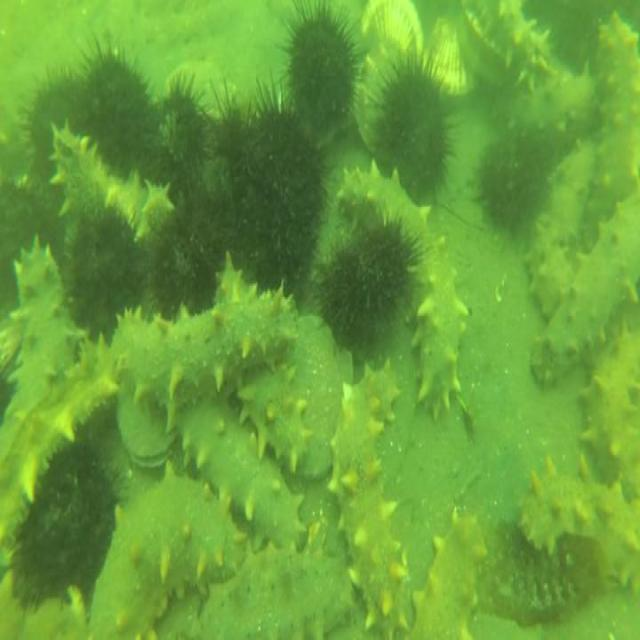echinus: (228, 87, 328, 284), (8, 439, 116, 613), (316, 220, 422, 349), (370, 55, 454, 199), (277, 0, 359, 137), (74, 41, 156, 177), (68, 197, 148, 332), (472, 132, 549, 238), (140, 79, 208, 191), (23, 68, 93, 175), (0, 172, 55, 305), (148, 217, 218, 316)
holothurian: (333, 163, 471, 420), (111, 256, 294, 431), (87, 458, 249, 640), (1, 334, 125, 548), (332, 354, 411, 640), (527, 193, 640, 392), (174, 526, 354, 640), (178, 398, 310, 550), (516, 447, 640, 602), (47, 115, 181, 242), (525, 124, 599, 322), (586, 5, 640, 248), (8, 231, 75, 418), (407, 502, 491, 640), (581, 319, 640, 501), (495, 63, 601, 153), (238, 356, 315, 472), (469, 0, 559, 90)
scallop: (297, 310, 356, 479), (455, 0, 524, 92), (351, 44, 406, 158), (419, 10, 481, 109), (114, 392, 178, 472), (164, 58, 239, 117), (358, 0, 428, 63)
